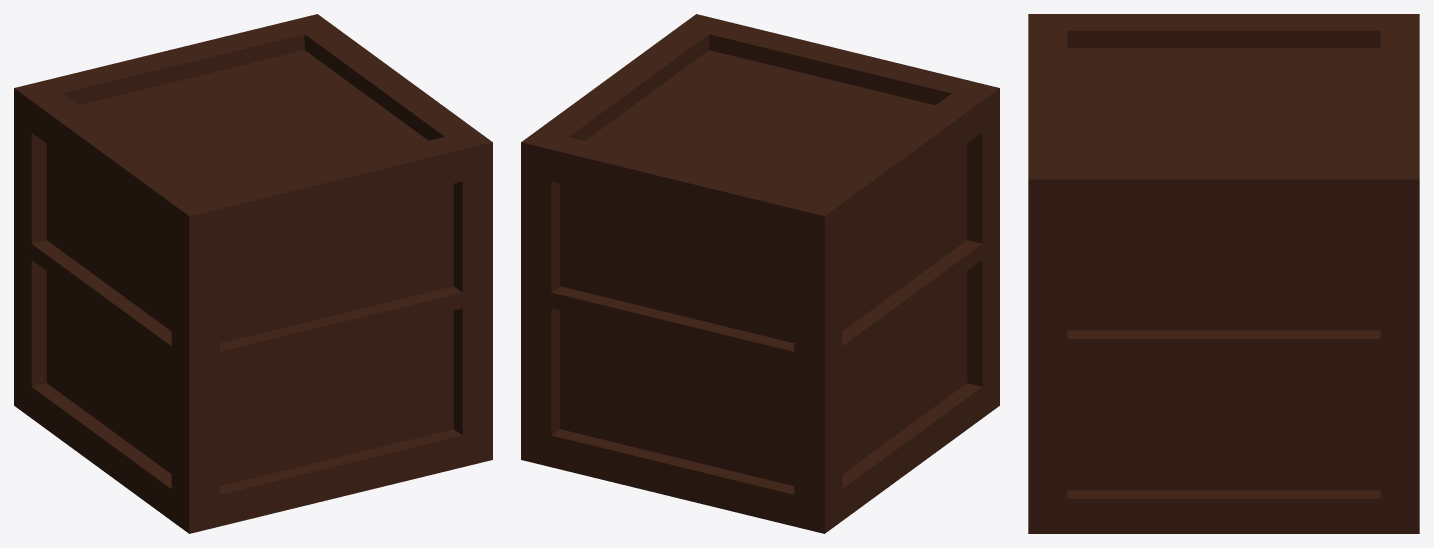
3 renders of one model, left to right at view 1: azimuth 30°, elevation 25°; view 2: azimuth 150°, elevation 25°; view 3: azimuth 270°, elevation 25°, orthographic. The views are drawn at different scales.
Parts seen in each view (by area): view 1: box_Plane, particle_Plane.001; view 2: box_Plane, particle_Plane.001; view 3: box_Plane, particle_Plane.001.
Boxes of the visible parts, x1,y1,x2,y2 form: box_Plane: [14, 14, 492, 533]; particle_Plane.001: [14, 231, 492, 374]; box_Plane: [521, 14, 999, 533]; particle_Plane.001: [521, 231, 999, 374]; box_Plane: [1028, 14, 1419, 533]; particle_Plane.001: [1028, 330, 1419, 356].
Bounding box in the file's own units: 1.6 × 1.6 × 1.6.
